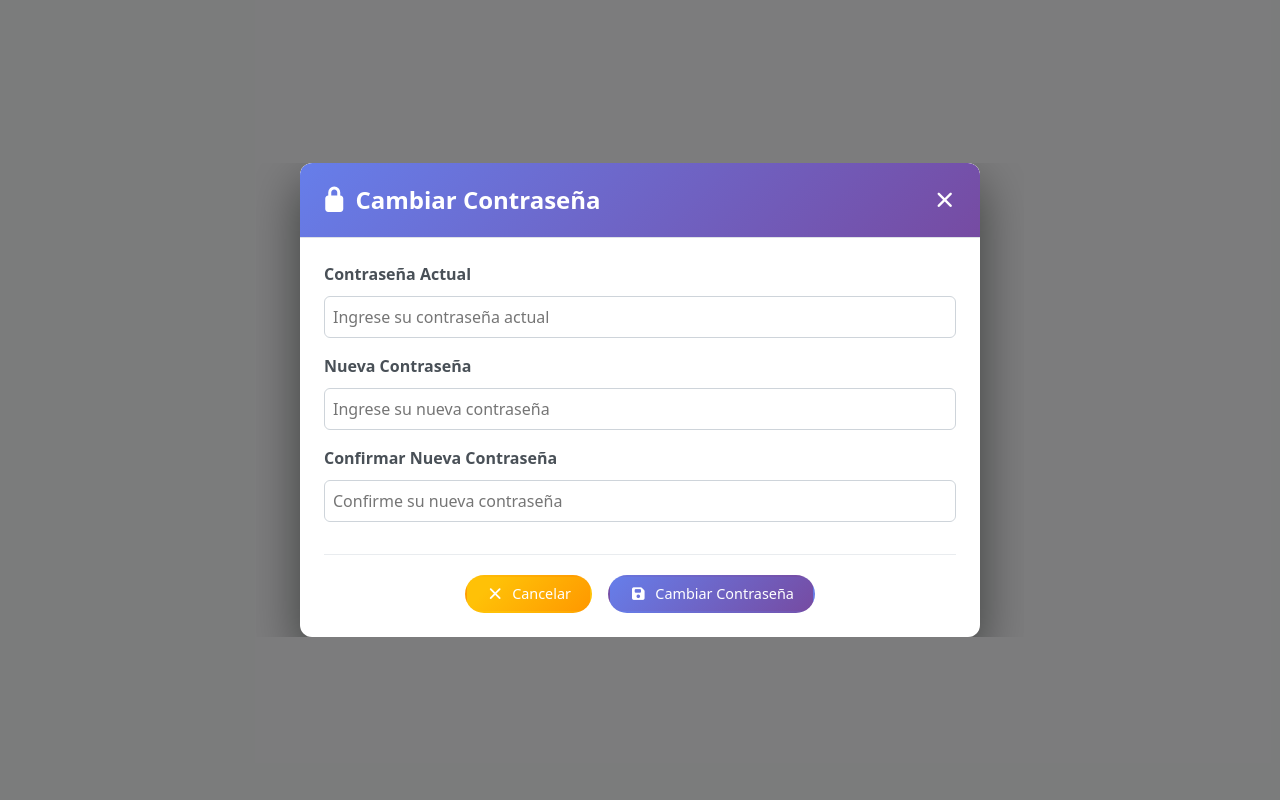
Test: ChangePassword Component › Prueba 4.4: Debe mostrar error cuando las contraseñas no coinciden
This screenshot has width=1280, height=800.
Type "oldpass123" into the password field labelled "Contraseña Actual". click: (640, 317)
box: [324,296,956,338]
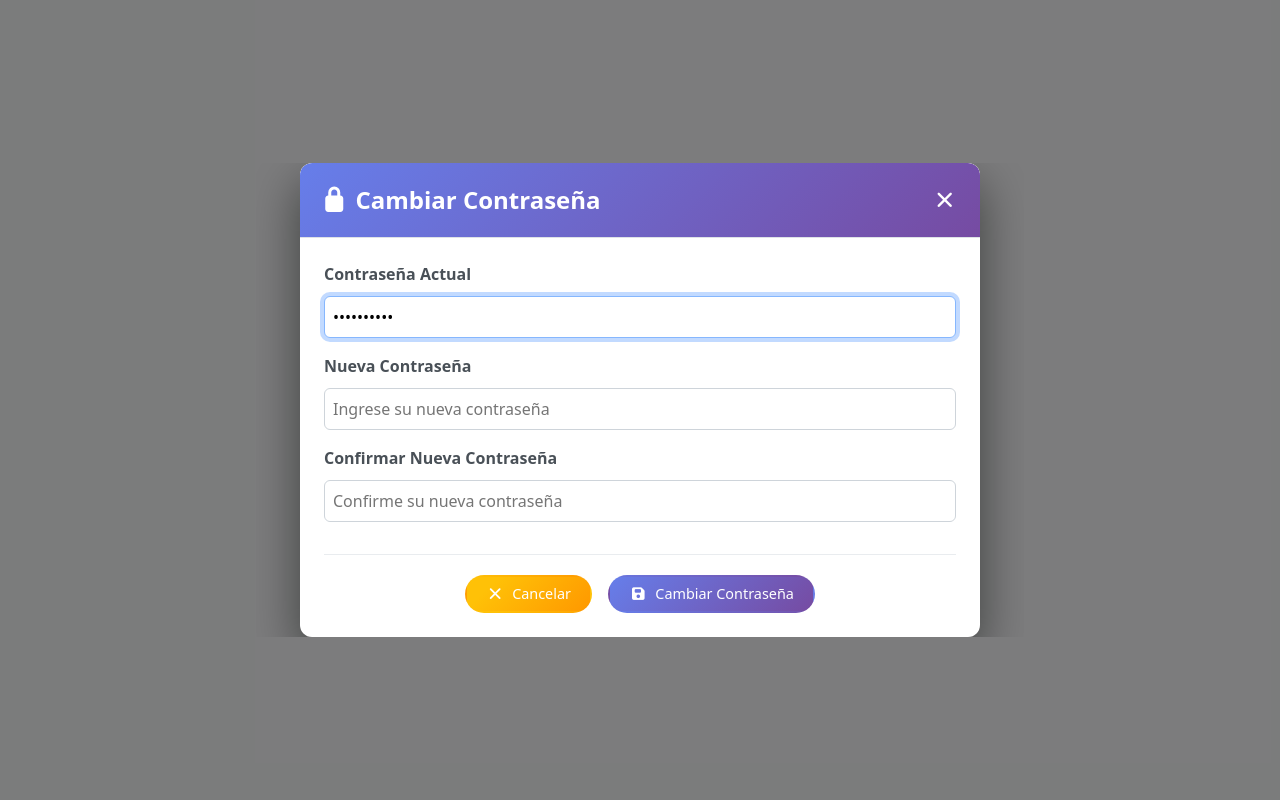
Type "newpass123" into the password field labelled "Nueva Contraseña". click: (640, 409)
box: [324,388,956,430]
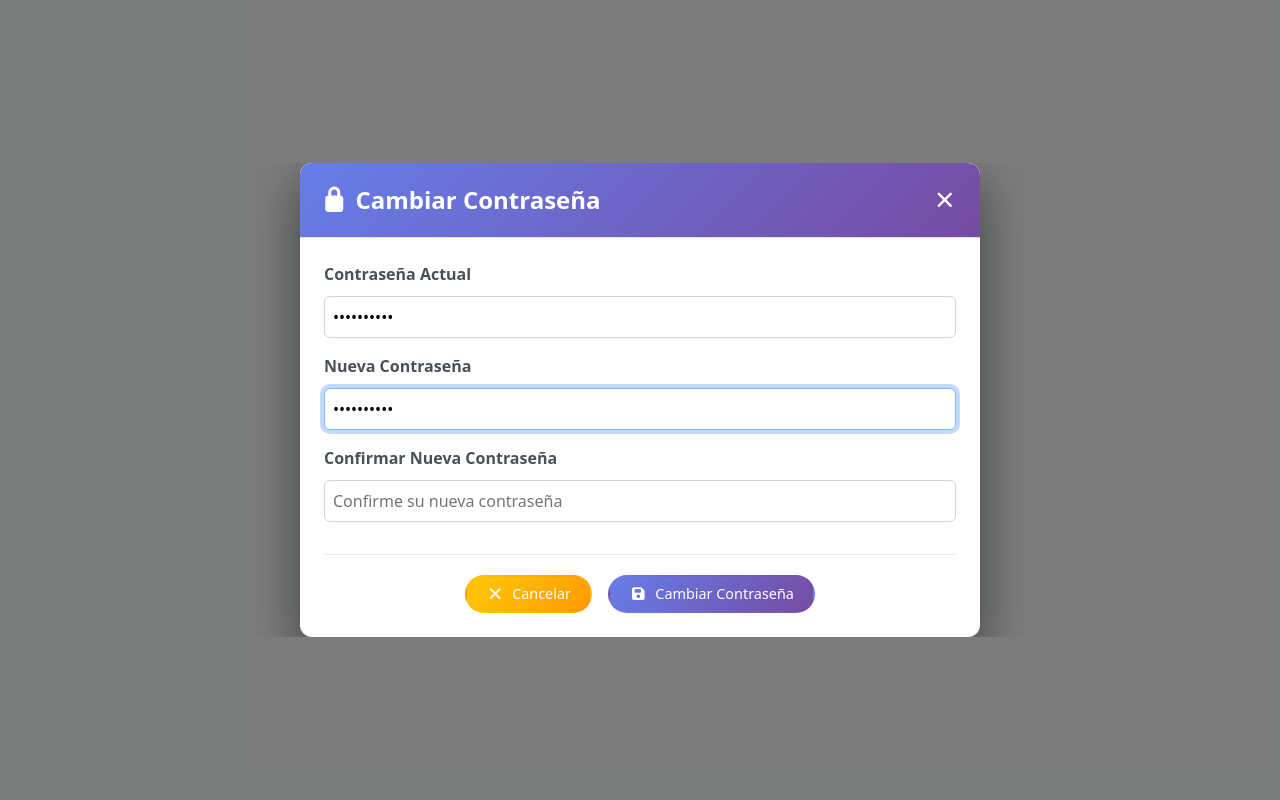
Type "diferente123" into the password field labelled "Confirmar Nueva Contraseña". click: (640, 501)
box: [324,480,956,522]
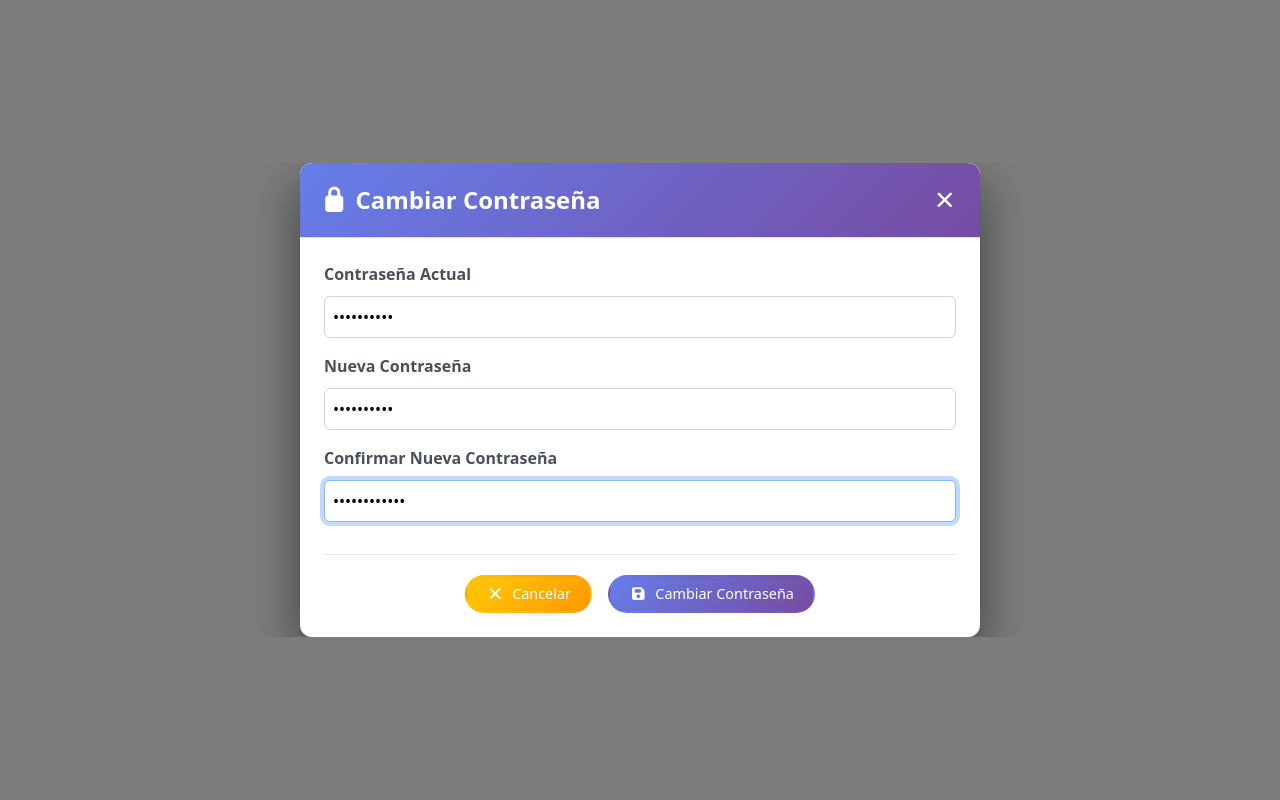
Click the button "Cambiar Contraseña". click: (712, 594)
box: [608,575,815,613]
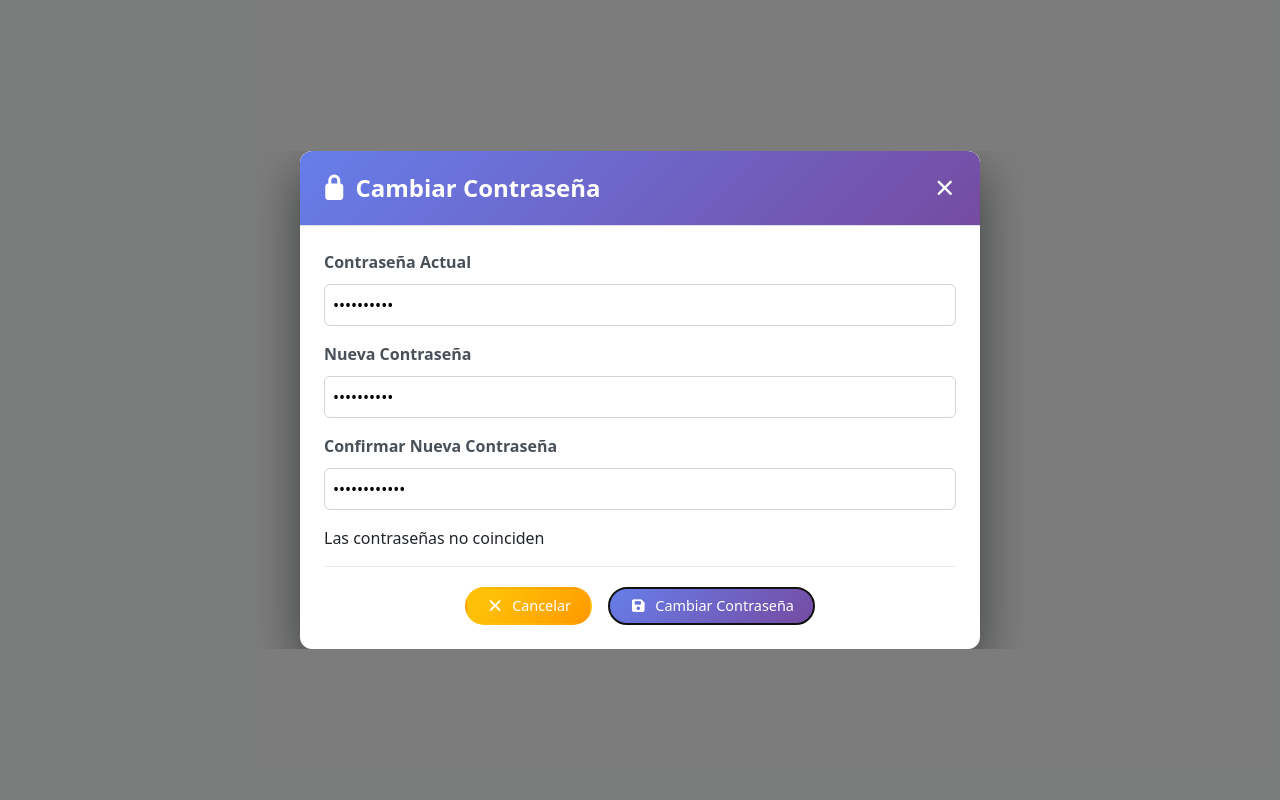
Expected: the text "Las contraseñas no coinciden" is shown, [324,527,544,549]
